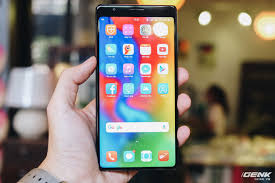bphone: (91, 2, 181, 172)
